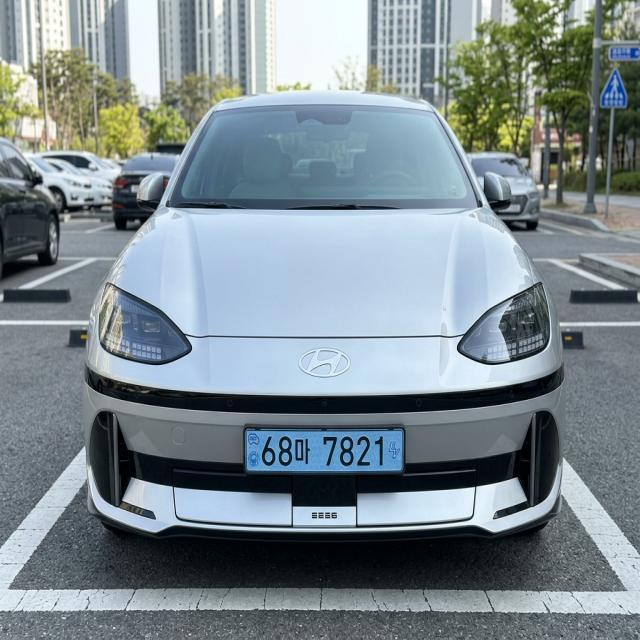car: (228, 414, 425, 487)
carev: (383, 428, 406, 476), (244, 427, 261, 471)
